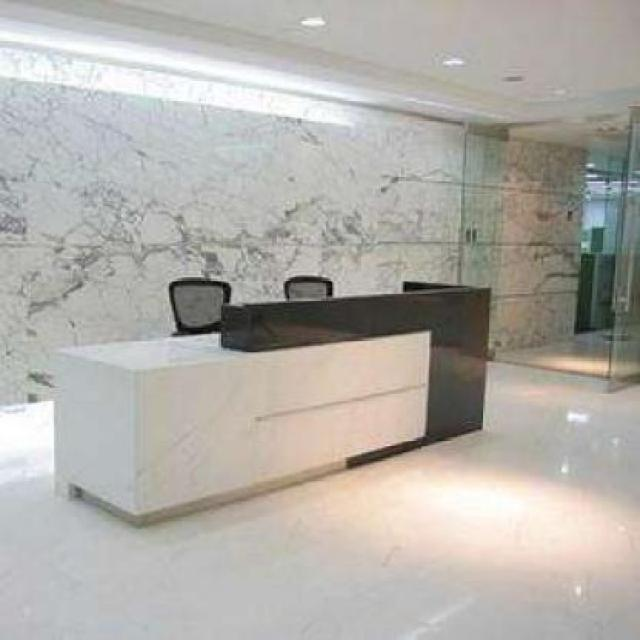frontdesk: (43, 269, 502, 536)
